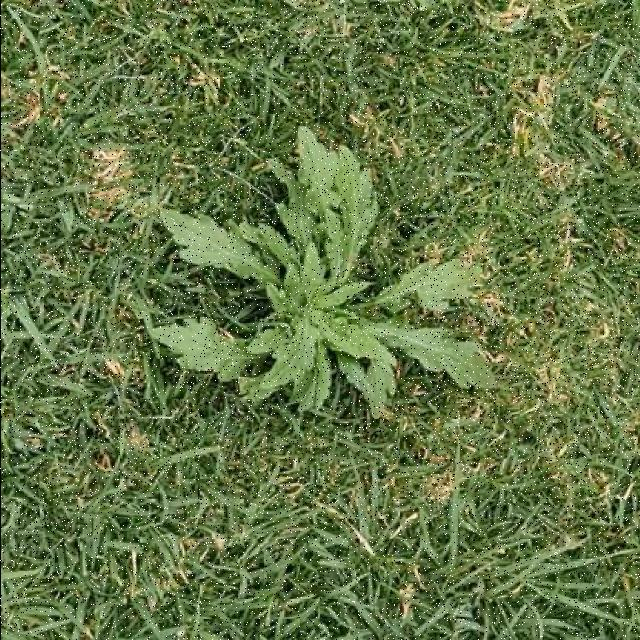weed: (150, 126, 492, 415)
